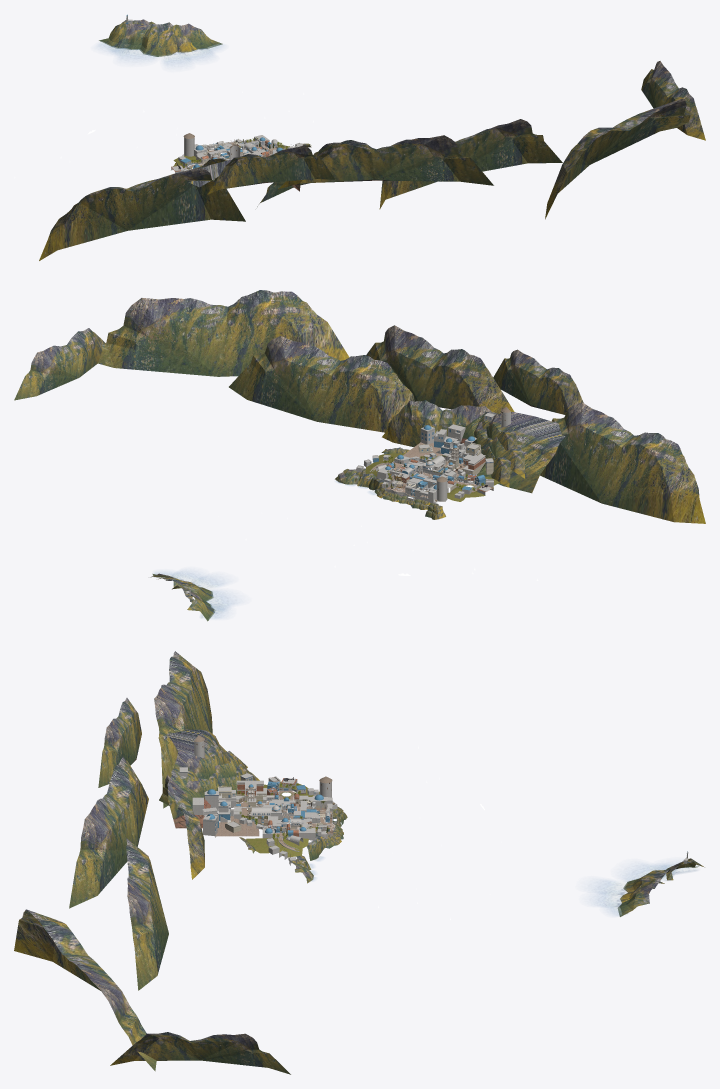
The model's file is breeze.glb.
3 renders of one model, top to bottom at view 1: azimuth 30°, elevation 25°; view 2: azimuth 150°, elevation 25°; view 3: azimuth 270°, elevation 25°, orthographic. The views are drawn at different scales.
Visible parts, largest first — view 1: rocks, Breeze, Decals; view 2: rocks, Breeze, Decals; view 3: rocks, Breeze, Decals.
Part boxes in pixels (box(x1,y1,x2,y2)): rocks: box(39, 19, 705, 260); Breeze: box(125, 14, 302, 180); Decals: box(14, 41, 313, 178); rocks: box(14, 290, 705, 621); Breeze: box(186, 406, 510, 596); Decals: box(154, 455, 538, 618); rocks: box(14, 651, 704, 1074); Breeze: box(179, 733, 688, 865); Decals: box(240, 746, 697, 919).
Size of what is drawn, in the model's own units: 4678 by 657 by 3742.
Materials: 17 (16 with a texture image).
